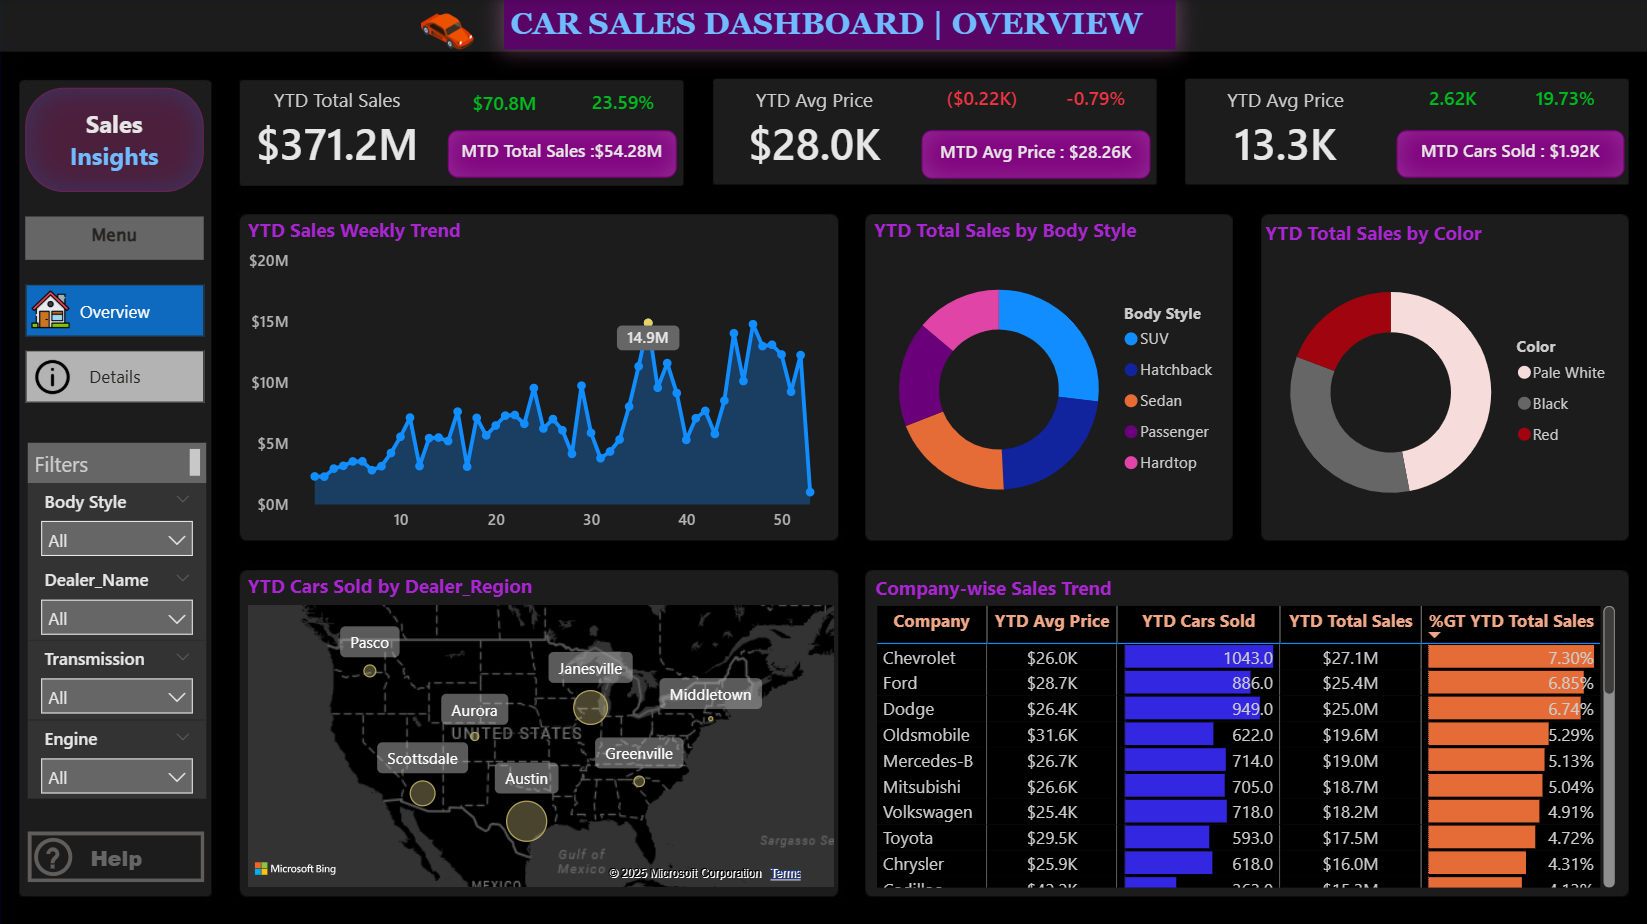

What the dashboard file says about the page in this screenshot:
{"tool":"powerbi","page":{"name":"Overview","canvas":[1280,720],"ordinal":0},"visuals":[{"type":"card","title":"YTD Total Sales","fields":{"Values":["car_data.YTD Total Sales"]},"box":[176,68.3,171.7,69.3],"z":0},{"type":"card","fields":{"Values":["car_data.Sales Difference"]},"box":[347.5,60,88.3,45.8],"z":1000},{"type":"card","fields":{"Values":["car_data.YoY Sales Growth"]},"box":[440,59.1,88,46.2],"z":2000},{"type":"card","fields":{"Values":["car_data.MTD KPI"]},"box":[347.6,101.7,177.4,37.2],"z":3000},{"type":"card","title":"YTD Avg Price","fields":{"Values":["car_data.YTD Avg Price"]},"box":[546.2,67.8,171.2,68.8],"z":4000},{"type":"card","fields":{"Values":["car_data.Avg Price Diff"]},"box":[718.3,56.7,88.3,45.8],"z":5000},{"type":"card","fields":{"Values":["car_data.YoY Avg Price Growth"]},"box":[806.7,56.7,88.3,45.8],"z":6000},{"type":"card","fields":{"Values":["car_data.MTD Avg Price KPI"]},"box":[715,101.7,177.5,37.5],"z":7000},{"type":"card","title":"YTD Avg Price","fields":{"Values":["car_data.YTD Cars Sold"]},"box":[912.2,67.8,171.1,68.9],"z":8000},{"type":"card","fields":{"Values":["car_data.Cars Sold Diff"]},"box":[1083.3,56.7,87.8,45.6],"z":9000},{"type":"card","fields":{"Values":["car_data.YoY Cars Sold Growth"]},"box":[1171.1,56.7,87.8,45.6],"z":10000},{"type":"card","fields":{"Values":["car_data.MTD Cars Sold KPI"]},"box":[1083.3,101.7,176.7,36.7],"z":11000},{"type":"areaChart","title":"YTD Sales Weekly Trend","fields":{"Category":["Calendar Table.Week"],"Y":["Sum(car_data.Price ($))","car_data.Max Point on Area Chart"]},"box":[188.2,168.8,463.5,253.5],"z":12000},{"type":"donutChart","fields":{"Category":["car_data.Body Style"],"Y":["car_data.YTD Total Sales"]},"box":[674.1,168.8,281.8,248.8],"z":13000},{"type":"donutChart","fields":{"Y":["car_data.YTD Total Sales"],"Category":["car_data.Color"]},"box":[976.7,170.9,282.7,249.3],"z":14000},{"type":"map","fields":{"Category":["car_data.Dealer_Region"],"Size":["car_data.YTD Cars Sold"]},"box":[188.5,445.4,463.8,249.2],"z":15000},{"type":"tableEx","title":"Company-wise Sales Trend","fields":{"Values":["car_data.Company","car_data.YTD Avg Price","car_data.YTD Cars Sold","car_data.YTD Total Sales","Divide(car_data.YTD Total Sales, ScopedEval(car_data.YTD Total Sales, []))"]},"box":[674.8,445.8,583.7,248.1],"z":16000},{"type":"textbox","box":[391.8,0,520.7,39.5],"z":17000},{"type":"slicer","fields":{"Values":["car_data.Body Style"]},"box":[21.8,375.2,138.2,61.3],"z":18000},{"type":"slicer","fields":{"Values":["car_data.Dealer_Name"]},"box":[21.8,436.5,138.2,61.2],"z":19000},{"type":"slicer","fields":{"Values":["car_data.Transmission"]},"box":[21.8,497.7,138.2,61.5],"z":20000},{"type":"slicer","fields":{"Values":["car_data.Engine"]},"box":[21.8,559.2,138.2,61.2],"z":21000},{"type":"textbox","box":[21.8,344,138.2,31.2],"z":22000},{"type":"textbox","box":[20.8,68.6,138.2,81.1],"z":23000},{"type":"textbox","box":[20.8,168.4,138.2,33.3],"z":24000},{"type":"pageNavigator","box":[20.8,221.4,139.3,92.5],"z":25000},{"type":"image","box":[321.1,0,53,50.9],"z":26000},{"type":"image","box":[20.8,221.4,39.5,39.5],"z":27000},{"type":"image","box":[21.8,272.3,38.5,41.6],"z":28000},{"type":"actionButton","box":[21.8,645.4,137.2,39.5],"z":29000}]}

Visuals, with their boxes on the page's 1280x720 design canvas (x1, y1, x2, y2). These are canvas units, not pixel positions in the 1647x924 screenshot, which may show the page scaled, cropped or inside an application window:
"YTD Total Sales" card: x1=176, y1=68, x2=348, y2=138
card - car_data.Sales Difference: x1=348, y1=60, x2=436, y2=106
card - car_data.YoY Sales Growth: x1=440, y1=59, x2=528, y2=105
card - car_data.MTD KPI: x1=348, y1=102, x2=525, y2=139
"YTD Avg Price" card: x1=546, y1=68, x2=717, y2=137
card - car_data.Avg Price Diff: x1=718, y1=57, x2=807, y2=102
card - car_data.YoY Avg Price Growth: x1=807, y1=57, x2=895, y2=102
card - car_data.MTD Avg Price KPI: x1=715, y1=102, x2=892, y2=139
"YTD Avg Price" card: x1=912, y1=68, x2=1083, y2=137
card - car_data.Cars Sold Diff: x1=1083, y1=57, x2=1171, y2=102
card - car_data.YoY Cars Sold Growth: x1=1171, y1=57, x2=1259, y2=102
card - car_data.MTD Cars Sold KPI: x1=1083, y1=102, x2=1260, y2=138
"YTD Sales Weekly Trend" areaChart: x1=188, y1=169, x2=652, y2=422
donutChart - car_data.Body Style x car_data.YTD Total Sales: x1=674, y1=169, x2=956, y2=418
donutChart - car_data.YTD Total Sales x car_data.Color: x1=977, y1=171, x2=1259, y2=420
map - car_data.Dealer_Region x car_data.YTD Cars Sold: x1=188, y1=445, x2=652, y2=695
"Company-wise Sales Trend" tableEx: x1=675, y1=446, x2=1258, y2=694
textbox: x1=392, y1=0, x2=912, y2=40
slicer - car_data.Body Style: x1=22, y1=375, x2=160, y2=436
slicer - car_data.Dealer_Name: x1=22, y1=436, x2=160, y2=498
slicer - car_data.Transmission: x1=22, y1=498, x2=160, y2=559
slicer - car_data.Engine: x1=22, y1=559, x2=160, y2=620
textbox: x1=22, y1=344, x2=160, y2=375
textbox: x1=21, y1=69, x2=159, y2=150
textbox: x1=21, y1=168, x2=159, y2=202
pageNavigator: x1=21, y1=221, x2=160, y2=314
image: x1=321, y1=0, x2=374, y2=51
image: x1=21, y1=221, x2=60, y2=261
image: x1=22, y1=272, x2=60, y2=314
actionButton: x1=22, y1=645, x2=159, y2=685
